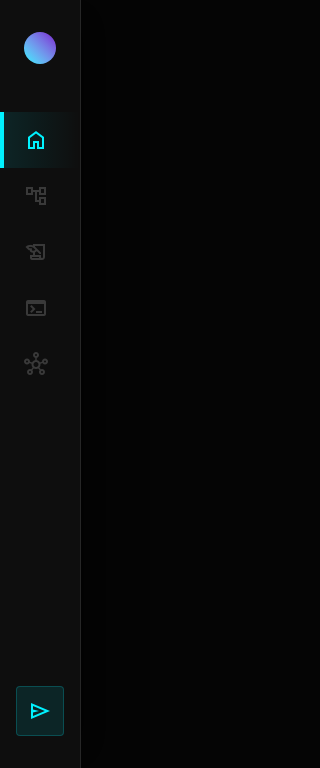
Test: Sidebar Component › expands on hover and shows labels
Step 1. Hover over the element with test id "motion-aside" → (40,384), box [0,0,81,767]
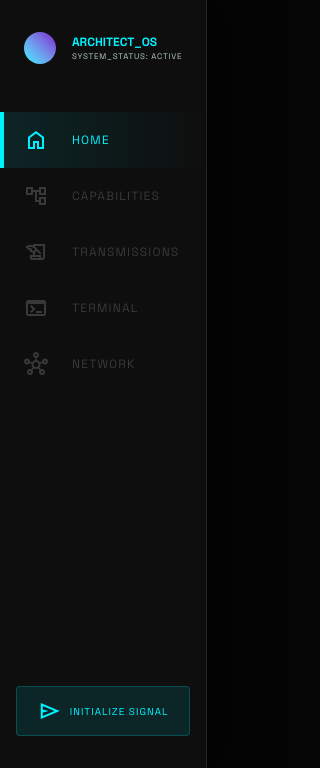
Now the text "Home" is shown, box [72,132,110,148]
Now the text "Capabilities" is shown, box [72,188,160,204]
Now the text "Transmissions" is shown, box [72,244,182,260]
